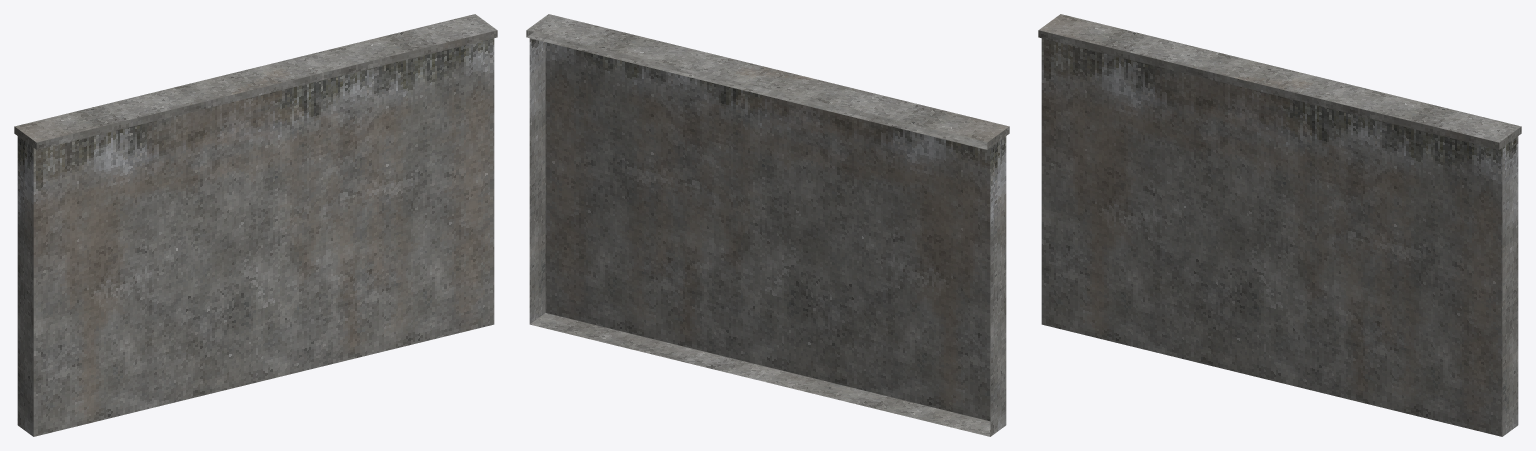
The model's file is wall_long.glb.
3 views of the same model, side by side, from view 1: azimuth 30°, elevation 25°; view 2: azimuth 150°, elevation 25°; view 3: azimuth 330°, elevation 25° (orthographic).
Parts seen in each view (by area): view 1: Object_2; view 2: Object_2; view 3: Object_2.
Part boxes in pixels (bbox=[...]): Object_2: bbox=[14, 14, 497, 436]; Object_2: bbox=[526, 14, 1009, 436]; Object_2: bbox=[1038, 14, 1521, 436].
Bounding box in the file's own units: 6 × 3.69 × 0.5008.
Materials: 1 (1 with a texture image).
